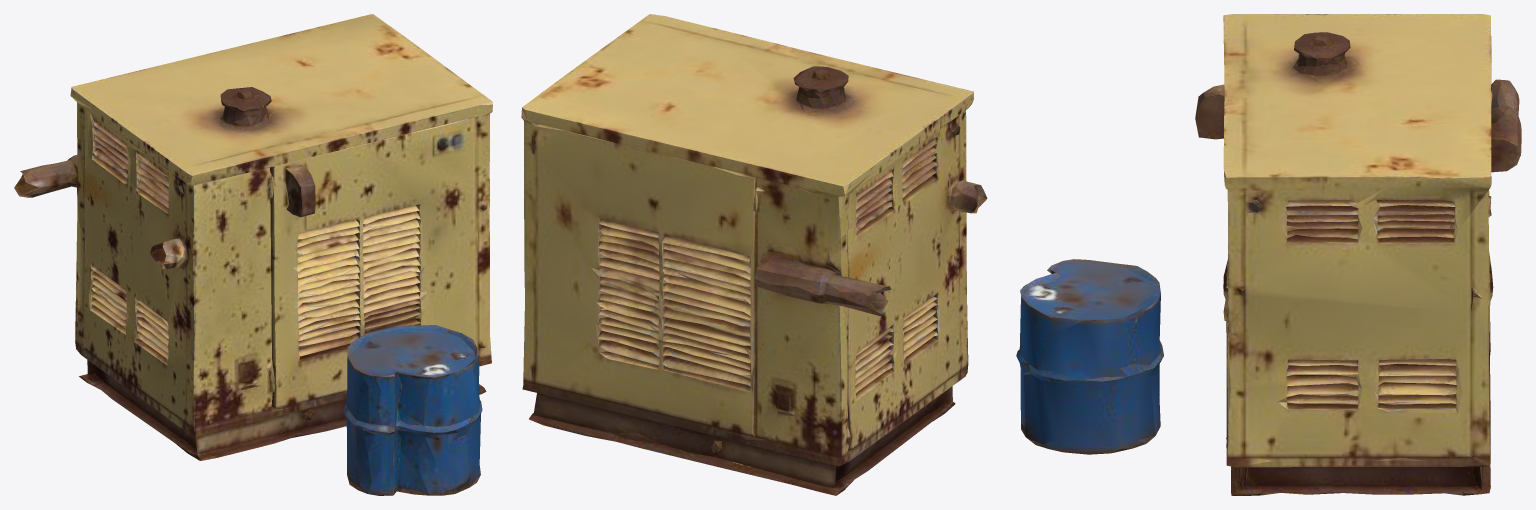
Rendered from generator.glb.
3 views of the same model, side by side, from view 1: azimuth 30°, elevation 25°; view 2: azimuth 150°, elevation 25°; view 3: azimuth 270°, elevation 25° (orthographic). The views are drawn at different scales.
Parts seen in each view (by area): view 1: generator; view 2: generator; view 3: generator.
Part boxes in pixels (x1,y1,x2,y2): generator: (14, 14, 492, 495); generator: (521, 14, 987, 495); generator: (1016, 14, 1521, 495).
Size of the model in its own units: 1.94 by 1.7 by 2.2.
1 material, 1 textured.
